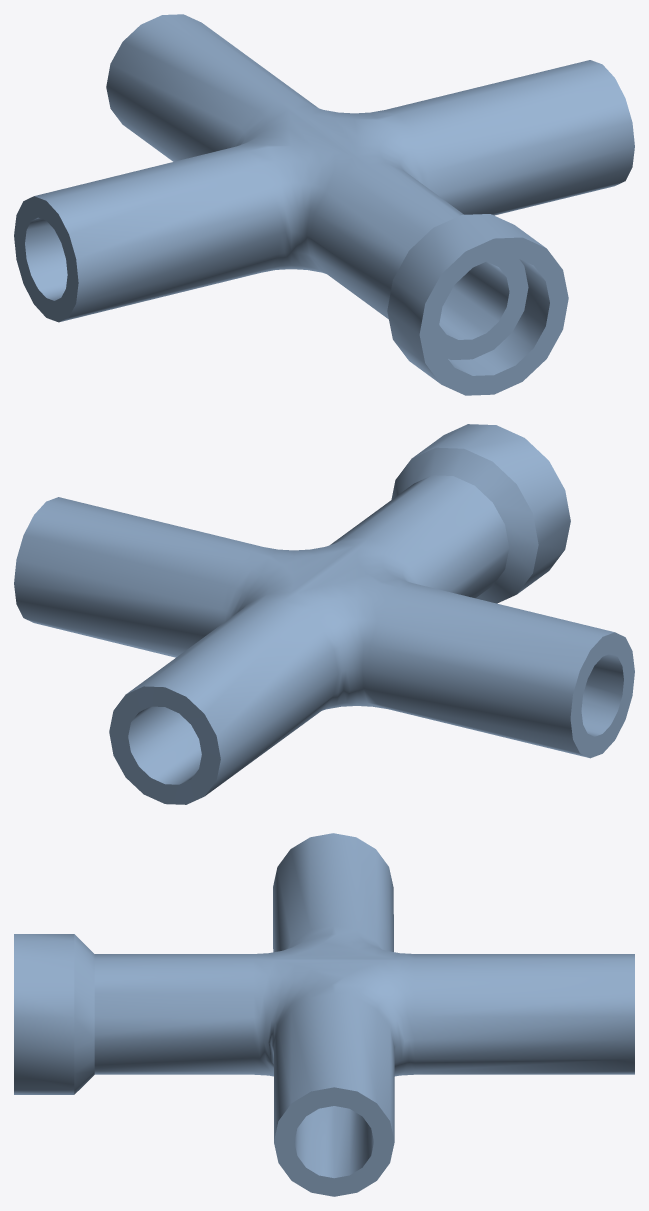
File: BlueMetalDecorationSmall4WayConnector1.fbx
The picture shows the model from 3 angles, top to bottom: view 1: azimuth 30°, elevation 25°; view 2: azimuth 150°, elevation 25°; view 3: azimuth 270°, elevation 25°; orthographic projection. The views are drawn at different scales.
Visible parts, largest first — view 1: BlueMetalDecorationSmall4WayConnector2; view 2: BlueMetalDecorationSmall4WayConnector2; view 3: BlueMetalDecorationSmall4WayConnector2.
Part boxes in pixels (left/top/right/bottom): BlueMetalDecorationSmall4WayConnector2: left=14, top=14, right=634, bottom=395; BlueMetalDecorationSmall4WayConnector2: left=14, top=424, right=634, bottom=804; BlueMetalDecorationSmall4WayConnector2: left=14, top=833, right=634, bottom=1196.
Bounding box in the file's own units: 299 × 80 × 308.
